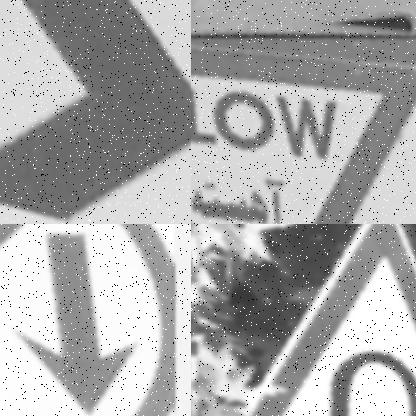Sharp Right Turn: (0, 0, 191, 224)
Slow: (191, 47, 416, 224)
U-Turn: (232, 224, 416, 416)
